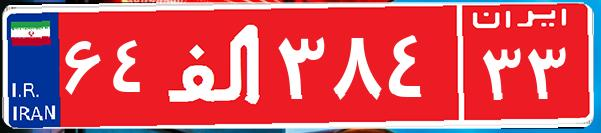3: (273, 28, 330, 110), (475, 38, 525, 113), (525, 38, 570, 115)
4: (385, 28, 445, 110), (110, 28, 158, 105)
6: (57, 26, 110, 107)
8: (330, 28, 385, 110)
الف: (158, 15, 273, 115)
